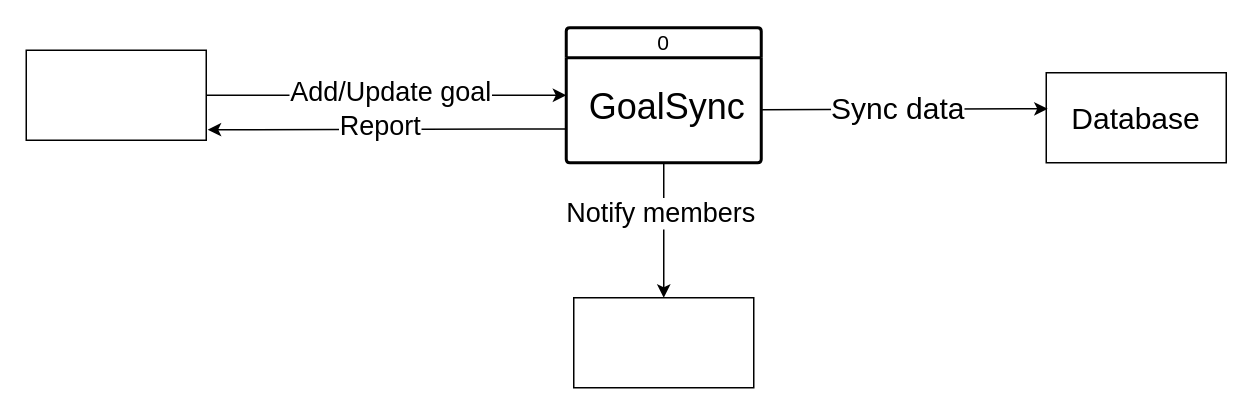
The diagram is 1253 pixels wide and 414 high, and some of its shapes have lost their labels. The centre of each missing label's shape, as x and y in pixels:
Dashboard Members: [663,342]
User: [115,94]
